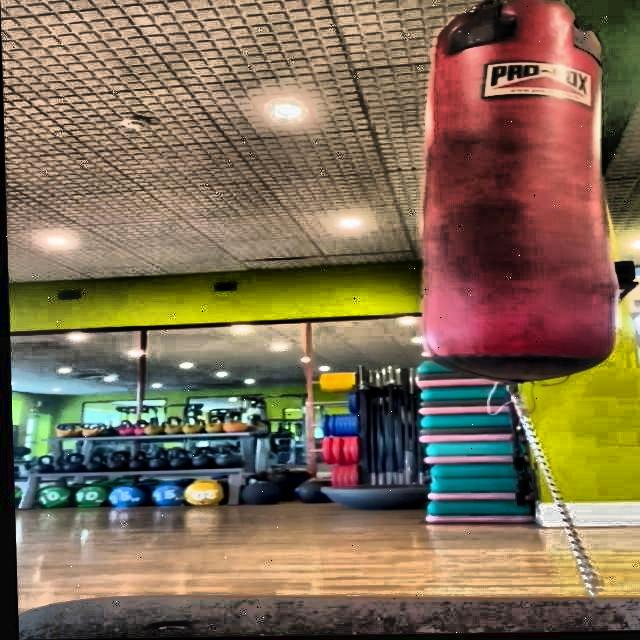boxing-bag: (423, 0, 618, 389)
